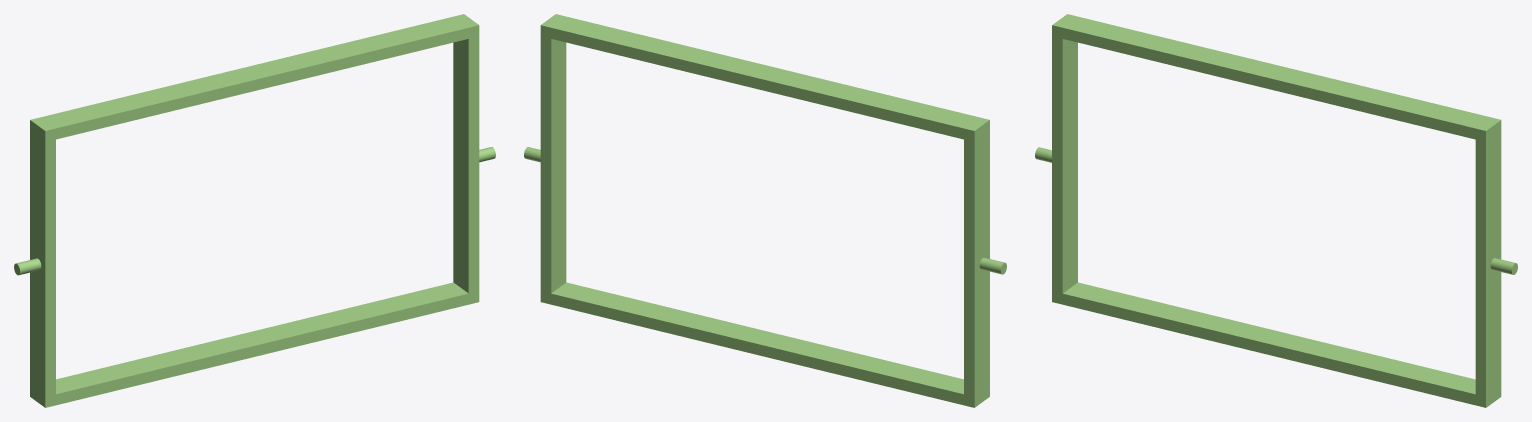
The model's file is Gimbal2.gltf.
The picture shows the model from 3 angles, left to right: view 1: azimuth 30°, elevation 25°; view 2: azimuth 150°, elevation 25°; view 3: azimuth 330°, elevation 25°; orthographic projection.
Parts seen in each view (by area): view 1: Part 3; view 2: Part 3; view 3: Part 3.
Boxes of the visible parts, box(x1,y1,x2,y2) form: Part 3: box(14, 14, 495, 407); Part 3: box(524, 14, 1006, 407); Part 3: box(1035, 14, 1517, 407).
Bounding box in the file's own units: 0.09 × 0.05 × 0.005.
